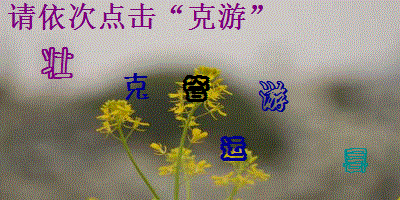text: (40, 45, 76, 80), (256, 79, 289, 113), (218, 134, 249, 163), (122, 71, 150, 102), (340, 147, 370, 175), (182, 74, 211, 102)
